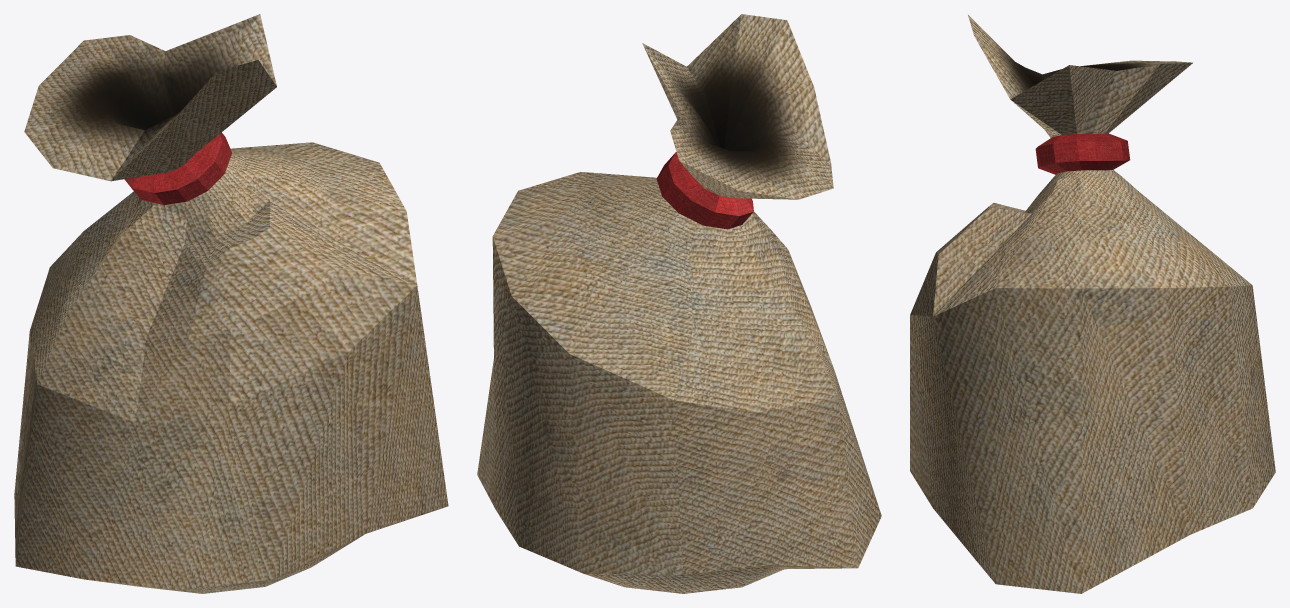
File: COSTAL.fbx
The picture shows the model from 3 angles, left to right: view 1: azimuth 30°, elevation 25°; view 2: azimuth 150°, elevation 25°; view 3: azimuth 270°, elevation 25°; orthographic projection. The views are drawn at different scales.
Visible parts, largest first — view 1: costal; view 2: costal; view 3: costal.
Part boxes in pixels (<box>): costal: <box>14,14,448,593</box>; costal: <box>477,14,881,593</box>; costal: <box>910,15,1275,593</box>.
Bounding box in the file's own units: 5.61 × 6.92 × 4.79.
